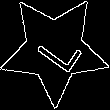L_NW: (26, 23, 83, 76)
